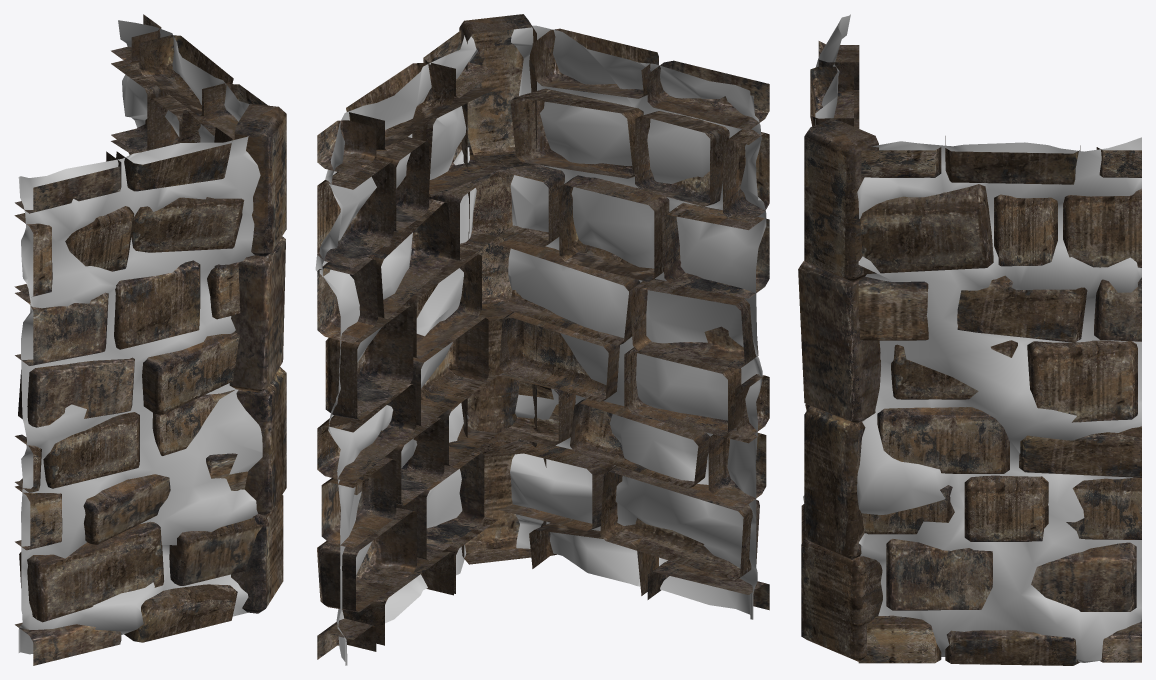
File: taureg_convex_small.dae
The picture shows the model from 3 angles, left to right: view 1: azimuth 30°, elevation 25°; view 2: azimuth 150°, elevation 25°; view 3: azimuth 270°, elevation 25°; orthographic projection. The views are drawn at different scales.
Parts seen in each view (by area): view 1: LO, Mesh; view 2: LO, Mesh; view 3: LO, Mesh.
Part boxes in pixels (x1=…): LO: x1=14, y1=14, x2=286, y2=665; Mesh: x1=18, y1=20, x2=262, y2=654; LO: x1=317, y1=14, x2=769, y2=659; Mesh: x1=315, y1=25, x2=766, y2=665; LO: x1=798, y1=41, x2=1141, y2=665; Mesh: x1=803, y1=14, x2=1141, y2=662.
Size of the model in its own units: 2.47 by 4.06 by 2.44.
